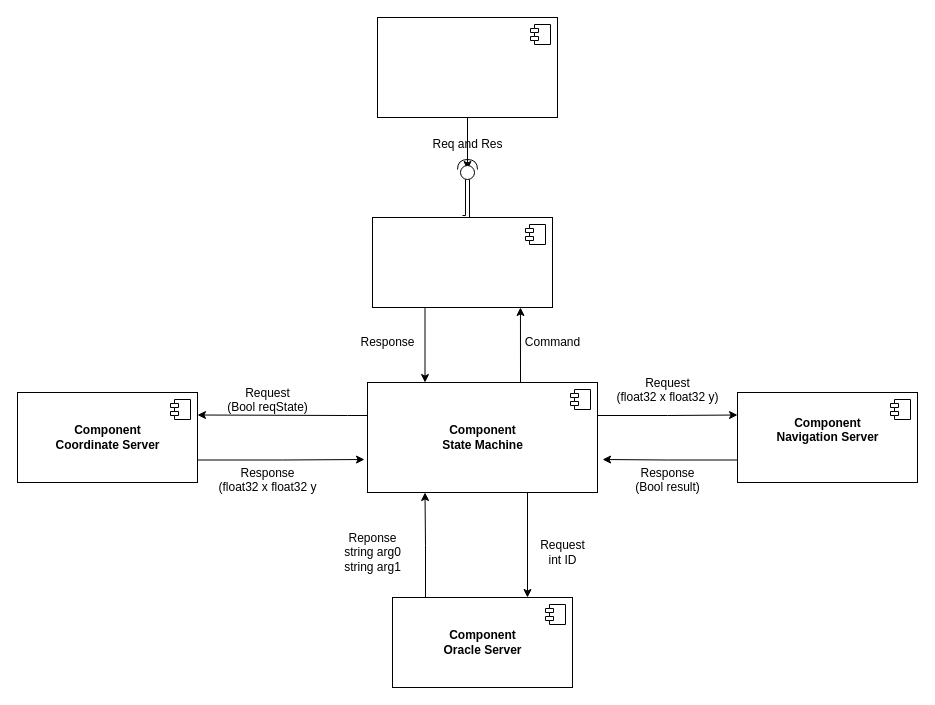
The diagram is 935 pixels wide and 705 high, and some of its shapes have lost their labels. The centre of each missing label's shape, as x and y in pixels:
"Component ARMOR" belongs at point 462,262.
"Component KnowledgeBase" belongs at point 467,67.
